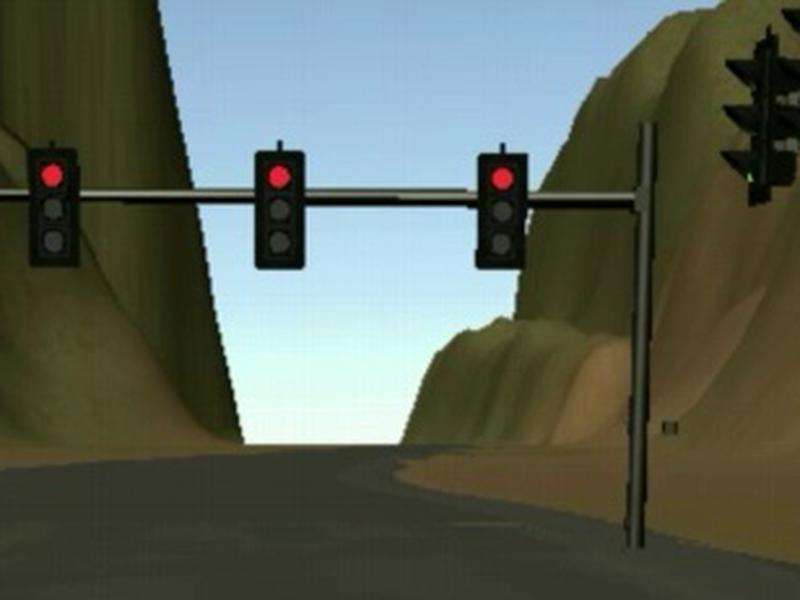Red: (475, 154, 529, 268), (27, 149, 79, 267), (253, 152, 304, 268)
